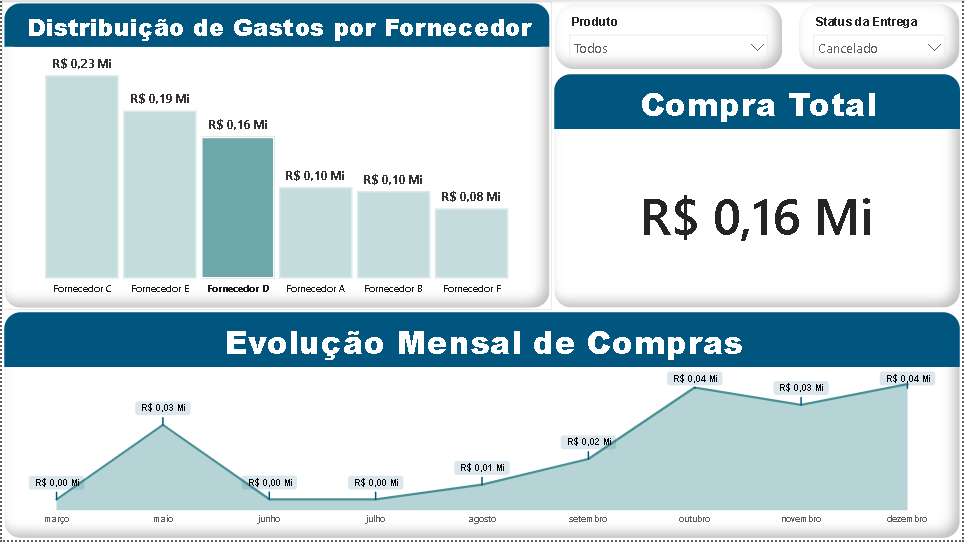

Layout of this report page (visuals, bound fields, positions):
{"tool":"powerbi","page":{"name":"Página 1","canvas":[1280,720],"ordinal":0},"visuals":[{"type":"cardVisual","title":"Compra Total","fields":{"Data":["Sum(Base de Dados Original.Valor Total (R$))"]},"box":[733.3,96,546.7,317.3],"z":0},{"type":"clusteredColumnChart","title":"Distribuição de Gastos por Fornecedor","fields":{"Y":["Sum(Base de Dados Original.Valor Total (R$))"],"Category":["Base de Dados Original.Fornecedor"]},"box":[0,1.3,733.3,412],"z":1000},{"type":"areaChart","title":"Evolução Mensal de Compras","fields":{"Category":["Base de Dados Original.Data da Compra.Variation.Hierarquia de datas.Mês"],"Y":["Sum(Base de Dados Original.Valor Total (R$))"]},"box":[0,412.9,1280,306.9],"z":2000},{"type":"slicer","fields":{"Values":["Base de Dados Original.Produto"]},"box":[733.6,1.4,311.1,95],"z":3000},{"type":"slicer","fields":{"Values":["Base de Dados Original.Status da Entrega"]},"box":[1058.4,1.4,221.6,95],"z":4000}]}

Visuals, with their boxes in screenshot pixels (x1, y1, x2, y2), scaled from the page's 1280x720 canvas onto the 965x543 screenshot:
"Compra Total" cardVisual: bbox(553, 72, 964, 312)
"Distribuição de Gastos por Fornecedor" clusteredColumnChart: bbox(0, 1, 553, 312)
"Evolução Mensal de Compras" areaChart: bbox(0, 311, 964, 542)
slicer - Base de Dados Original.Produto: bbox(553, 1, 788, 73)
slicer - Base de Dados Original.Status da Entrega: bbox(798, 1, 964, 73)
